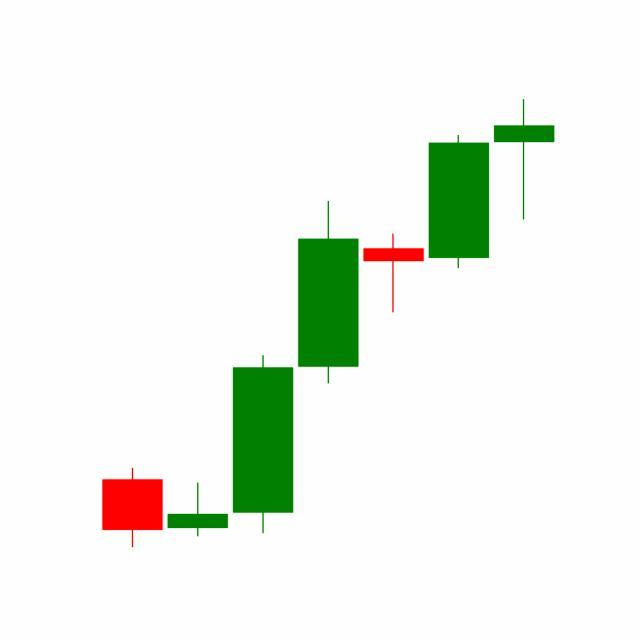Hikkake Pattern: (165, 132, 492, 543)
